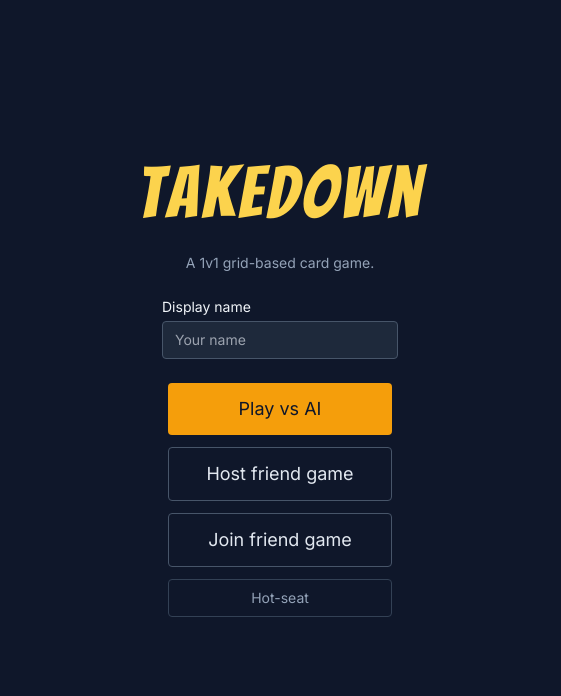
Scenario: Menu › "Play vs AI" sets ai mode and navigates to the game screen
This screenshot has width=561, height=696.
Click the button "Play vs AI": (280, 409) [168,383,392,435]
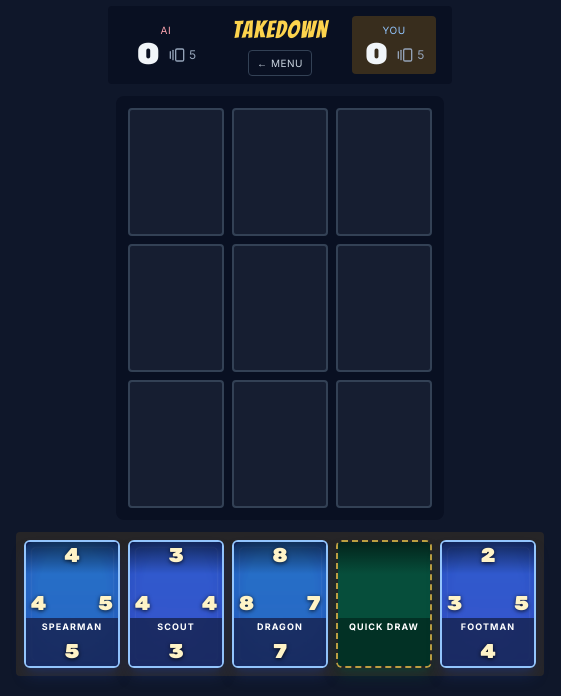
Expected: the table named "game board" is shown, [116,96,444,520]
